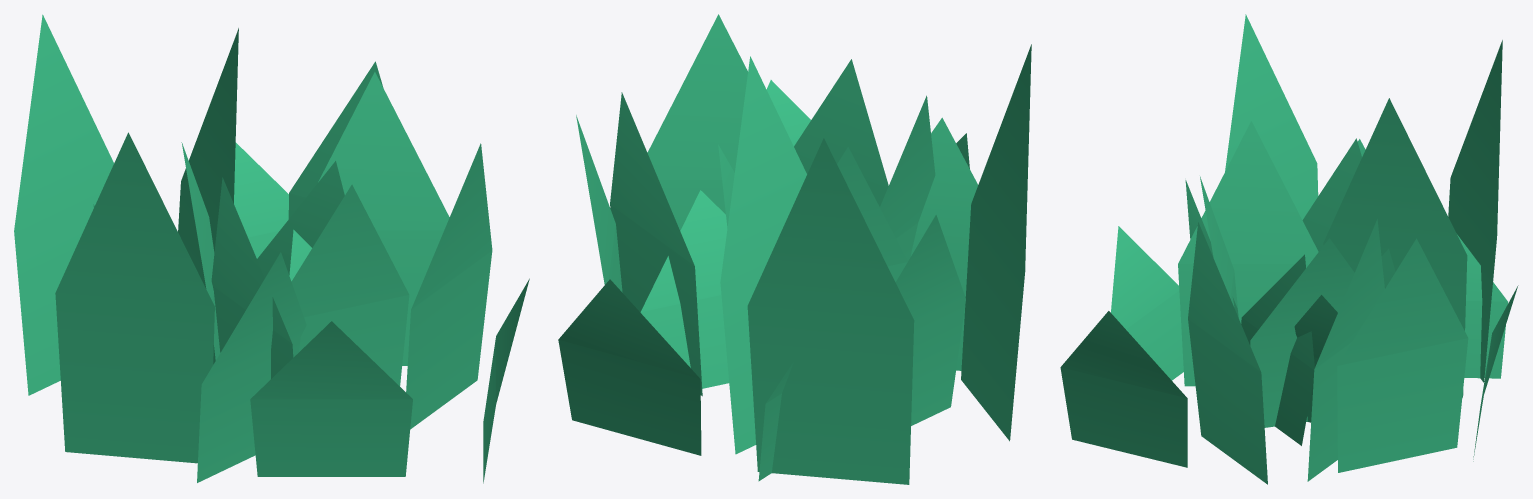
The model's file is long_grass.glb.
3 renders of one model, left to right at view 1: azimuth 30°, elevation 25°; view 2: azimuth 150°, elevation 25°; view 3: azimuth 270°, elevation 25°, orthographic. The views are drawn at different scales.
Visible parts, largest first — view 1: Mesh grass; view 2: Mesh grass; view 3: Mesh grass.
Part boxes in pixels (<box>): Mesh grass: <box>14,14,529,483</box>; Mesh grass: <box>558,14,1031,484</box>; Mesh grass: <box>1060,14,1518,484</box>.
Size of the model in its own units: 2 by 1.62 by 2.16.
